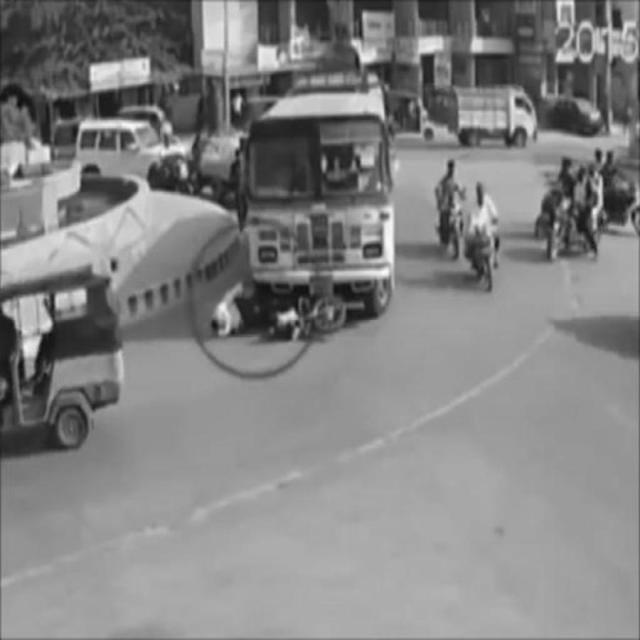accident: (214, 103, 396, 336)
vehicle: (3, 272, 121, 449), (74, 120, 184, 191), (545, 166, 605, 258), (469, 177, 503, 293), (434, 160, 464, 261)
